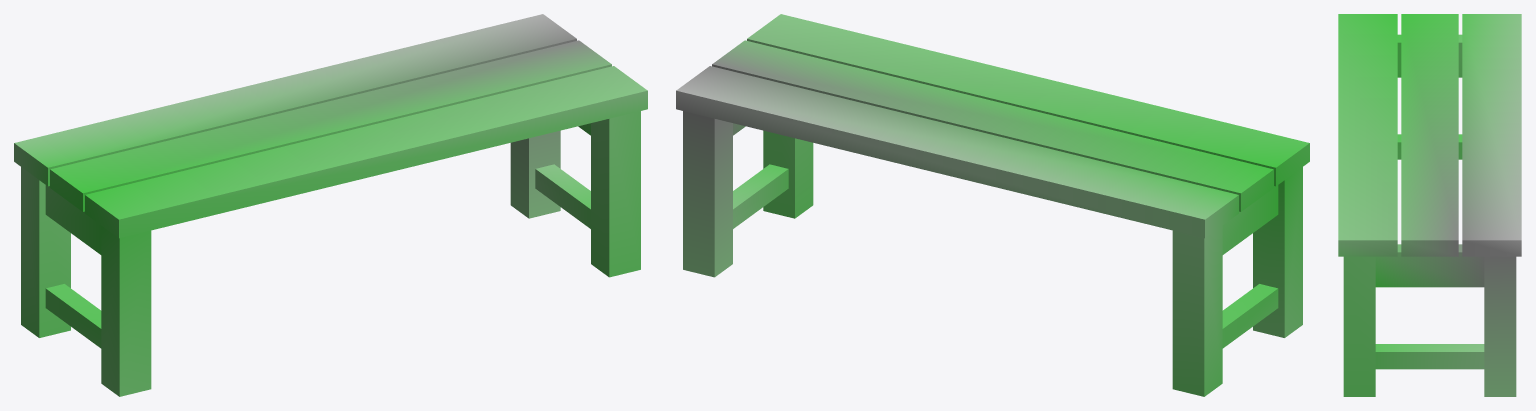
Rendered from Bench_1.fbx.
3 renders of one model, left to right at view 1: azimuth 30°, elevation 25°; view 2: azimuth 150°, elevation 25°; view 3: azimuth 270°, elevation 25°, orthographic. The views are drawn at different scales.
Parts seen in each view (by area): view 1: Bench_1; view 2: Bench_1; view 3: Bench_1.
Part boxes in pixels (x1,y1,x2,y2): Bench_1: [14, 14, 647, 396]; Bench_1: [676, 14, 1309, 396]; Bench_1: [1338, 14, 1521, 396].
Bounding box in the file's own units: 1.75 × 0.5704 × 0.6.
